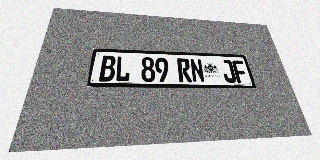8: (141, 57, 155, 82)
9: (155, 57, 169, 82)
B: (99, 55, 116, 82)
F: (231, 60, 249, 83)
J: (220, 60, 237, 83)
L: (115, 56, 130, 82)
N: (189, 59, 205, 82)
R: (177, 58, 192, 82)
